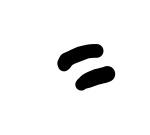eqv: (53, 38, 116, 93)
